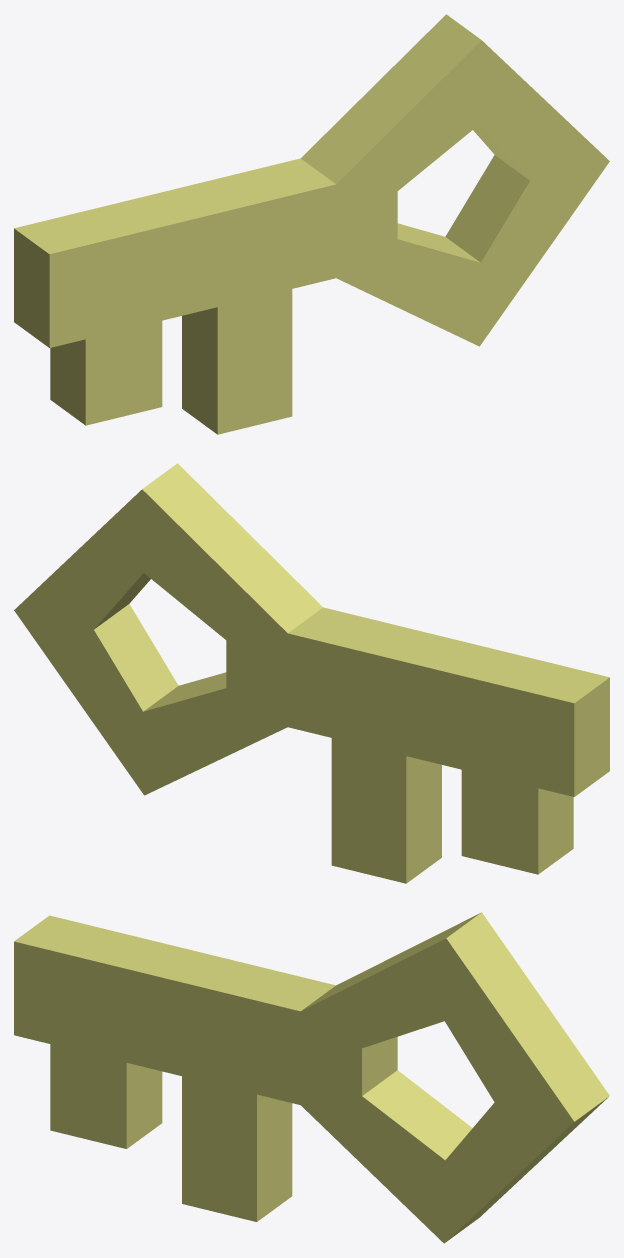
File: Key.fbx
The picture shows the model from 3 angles, top to bottom: view 1: azimuth 30°, elevation 25°; view 2: azimuth 150°, elevation 25°; view 3: azimuth 330°, elevation 25°; orthographic projection.
Parts seen in each view (by area): view 1: KeyMesh; view 2: KeyMesh; view 3: KeyMesh.
Boxes of the visible parts, x1,y1,x2,y2 form: KeyMesh: (14, 14, 609, 434); KeyMesh: (14, 463, 609, 883); KeyMesh: (14, 912, 609, 1243).
Bounding box in the file's own units: 8.56 × 4.82 × 0.9392.
